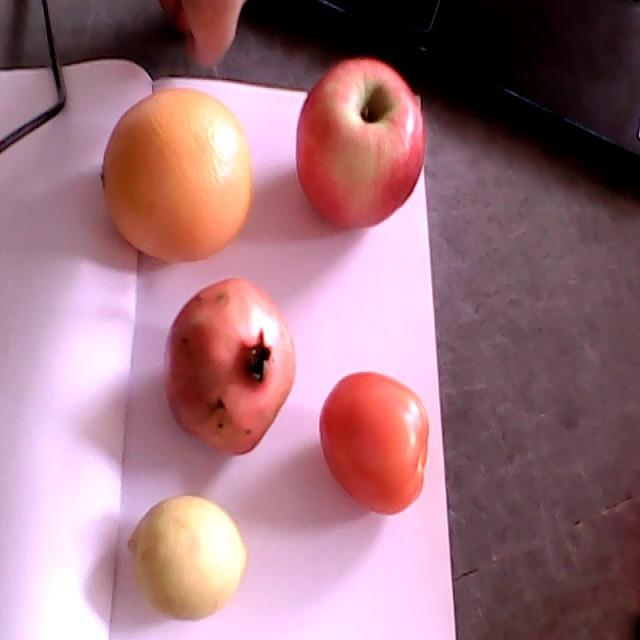apple: (296, 58, 426, 229)
lemon: (129, 495, 248, 622)
orange: (102, 87, 253, 263)
pomegranate: (164, 277, 296, 454)
tomato: (320, 372, 428, 515)
